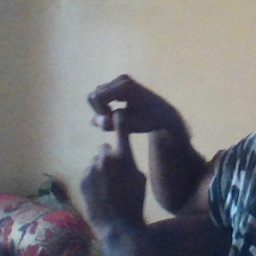Q: (77, 68, 165, 198)
